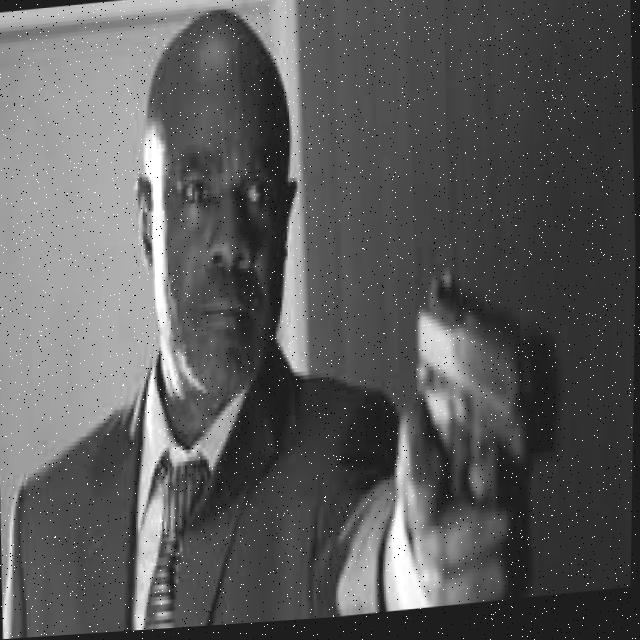pistol: (408, 262, 567, 527)
